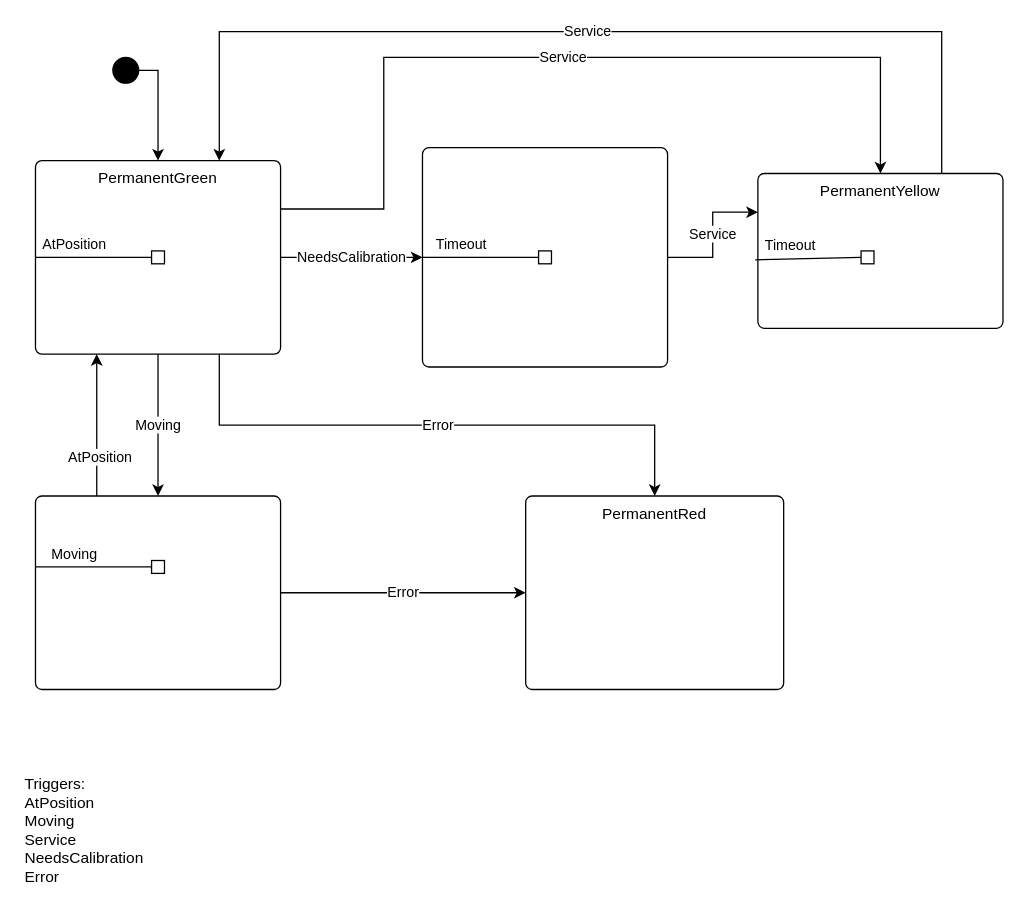
Some shapes in this 1026 by 912 pixel diagram are drawn without their labels. The shapes that lost their labels are listed below. From the top down, each one's centre as x and y in pixels, then its label:
At point 544,256: "BlinkYellow".
At point 157,592: "BlinkGreen".
